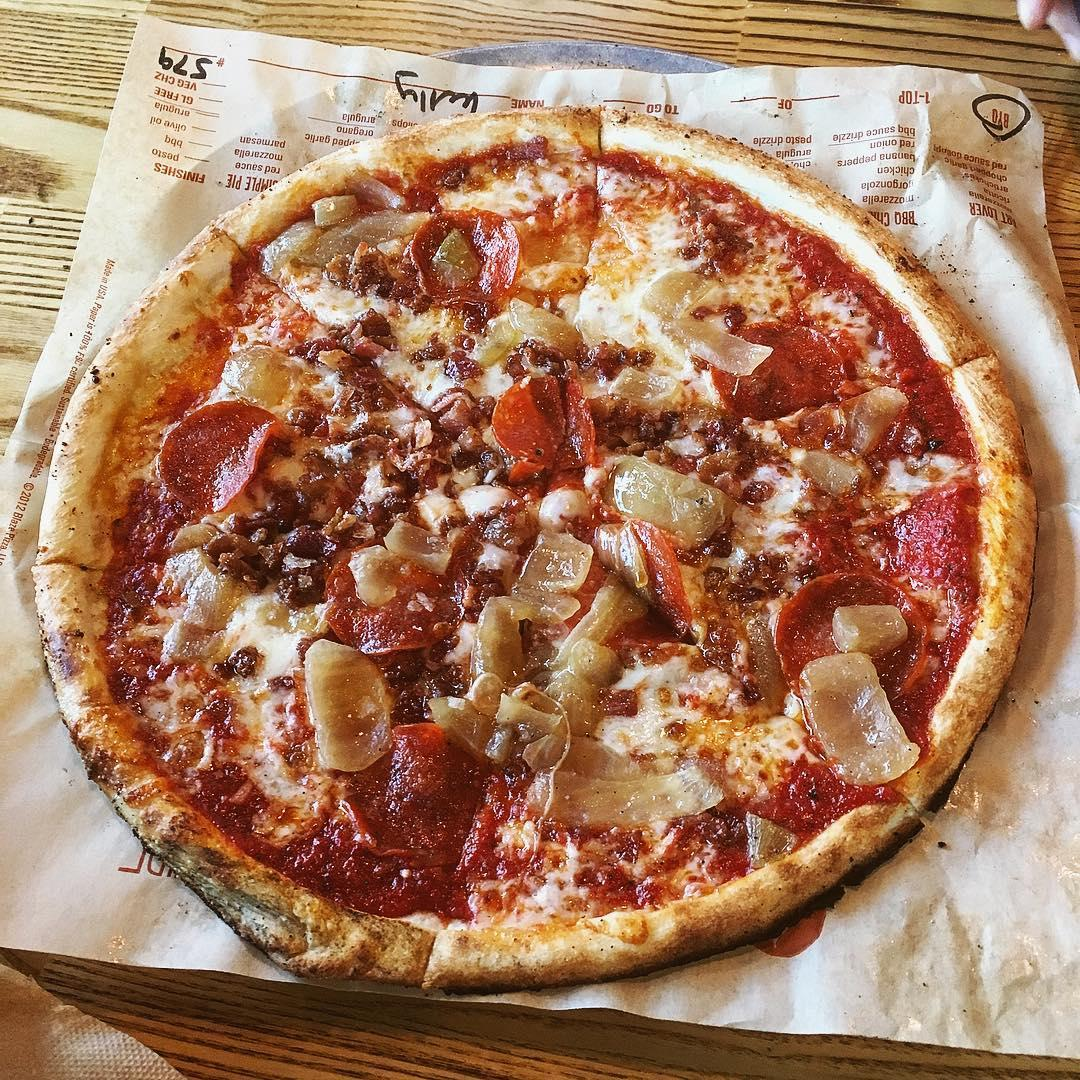Pepperoni: (779, 574, 927, 696), (349, 726, 484, 858), (157, 398, 279, 514), (327, 551, 459, 652), (713, 321, 847, 412), (593, 518, 696, 632), (413, 209, 523, 302), (492, 378, 595, 474)
Pizza: (38, 113, 1043, 987)
